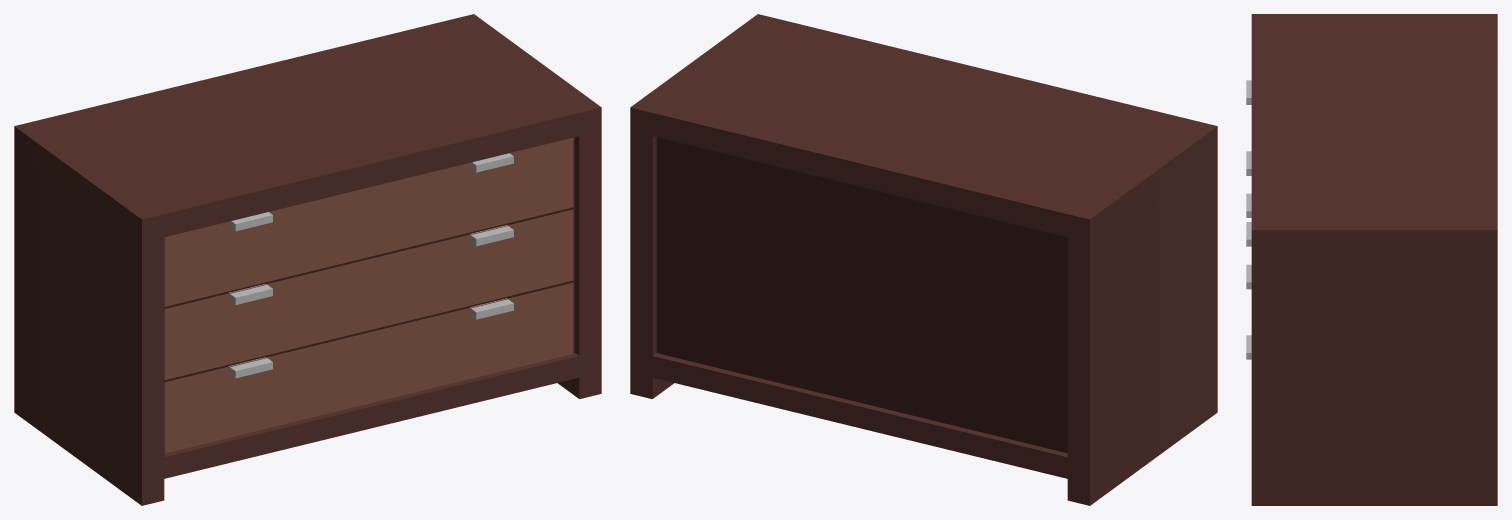
The model's file is shelf_001.glb.
3 renders of one model, left to right at view 1: azimuth 30°, elevation 25°; view 2: azimuth 150°, elevation 25°; view 3: azimuth 270°, elevation 25°, orthographic. The views are drawn at different scales.
Parts seen in each view (by area): view 1: shelf_001; view 2: shelf_001; view 3: shelf_001.
Part boxes in pixels (x1=…): shelf_001: x1=14, y1=14, x2=601, y2=505; shelf_001: x1=630, y1=14, x2=1217, y2=505; shelf_001: x1=1246, y1=14, x2=1497, y2=505.
Bounding box in the file's own units: 1.22 × 0.7288 × 0.6024.
1 material, 1 textured.
